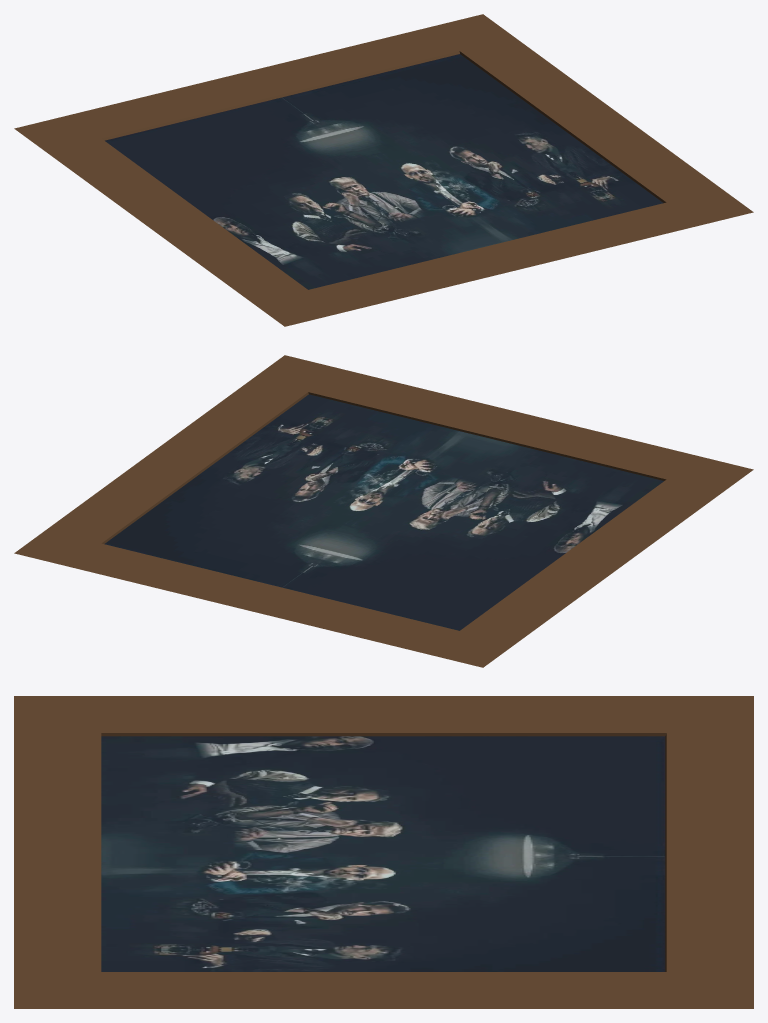
The model's file is Tablo.fbx.
3 views of the same model, one above another, from view 1: azimuth 30°, elevation 25°; view 2: azimuth 150°, elevation 25°; view 3: azimuth 270°, elevation 25° (orthographic). The views are drawn at different scales.
Parts seen in each view (by area): view 1: Plane; view 2: Plane; view 3: Plane.
Part boxes in pixels (box(x1,y1,x2,y2)): Plane: box(14, 14, 753, 326); Plane: box(14, 355, 753, 667); Plane: box(14, 696, 753, 1008).
Bounding box in the file's own units: 200 × 1.03 × 200.
